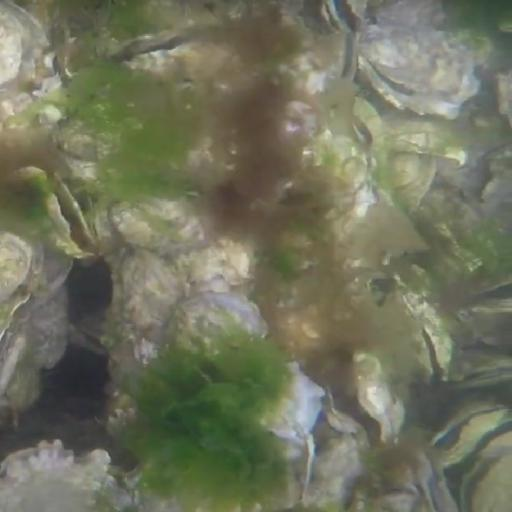Oyster-Closed: (104, 250, 179, 432), (171, 296, 265, 364), (112, 194, 203, 260), (304, 431, 363, 512), (354, 352, 404, 447), (298, 133, 371, 189), (187, 239, 259, 292), (385, 152, 435, 215), (486, 149, 512, 210), (495, 68, 512, 122)
Oyster-Open: (358, 29, 480, 113), (122, 21, 242, 83), (1, 449, 113, 512), (38, 170, 102, 263), (1, 1, 52, 115), (399, 278, 453, 383), (426, 407, 512, 468), (446, 272, 512, 350), (1, 226, 44, 336), (464, 435, 512, 512), (435, 350, 512, 393)
